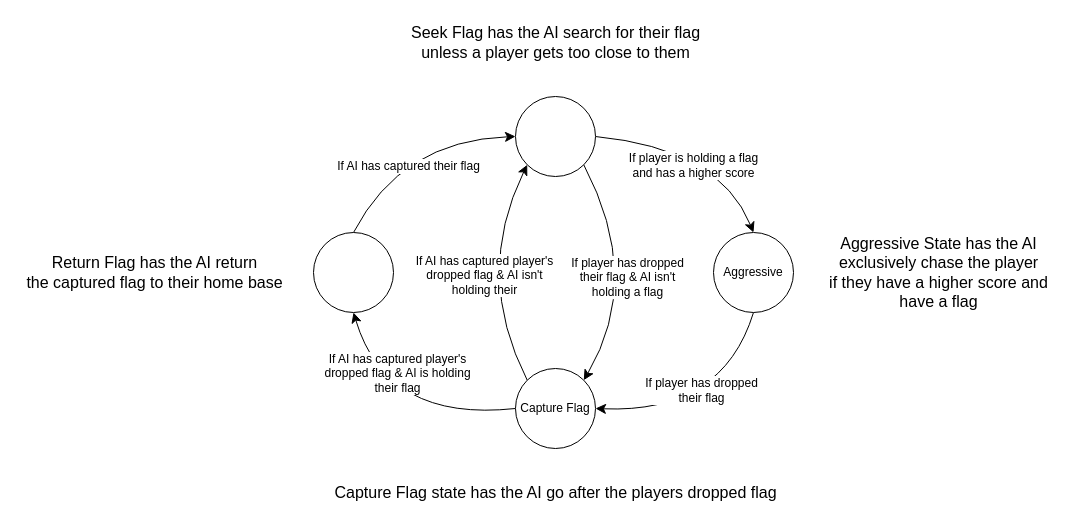
The diagram is 1073 pixels wide and 524 high, and some of its shapes have lost their labels. Each missing label, with the centre of its shape:
Return Flag: [353,272]
Seek Flag: [555,136]
